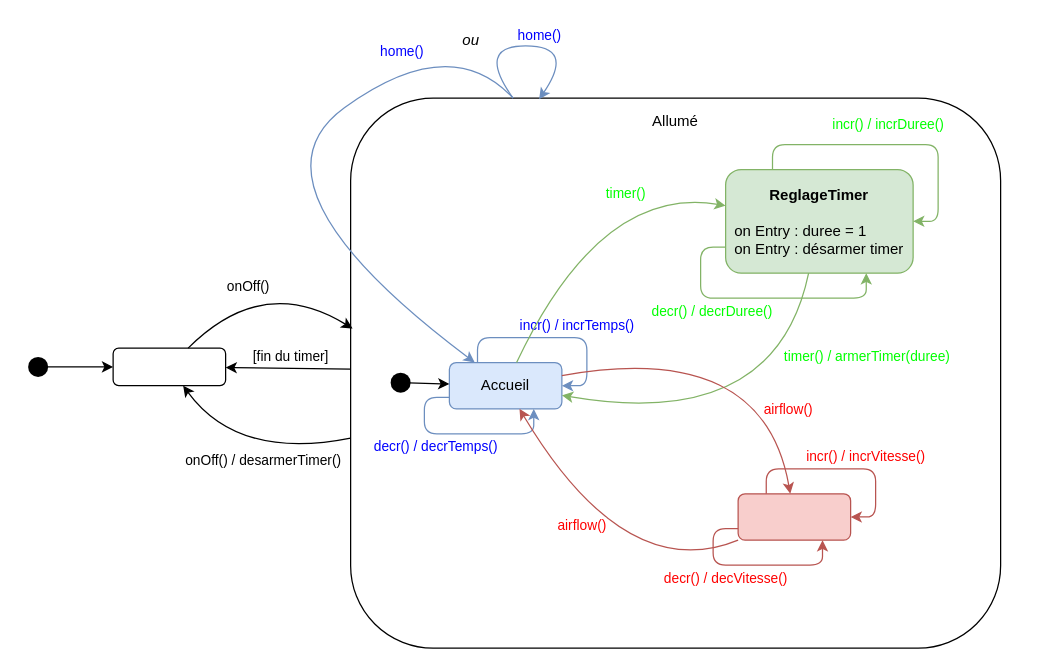
Image size: 1043x670. Some labels were removed from this diagram. Each missing label, with the centre of its shape:
Eteint: point 169,366
ReglageVitesse: point 794,516
